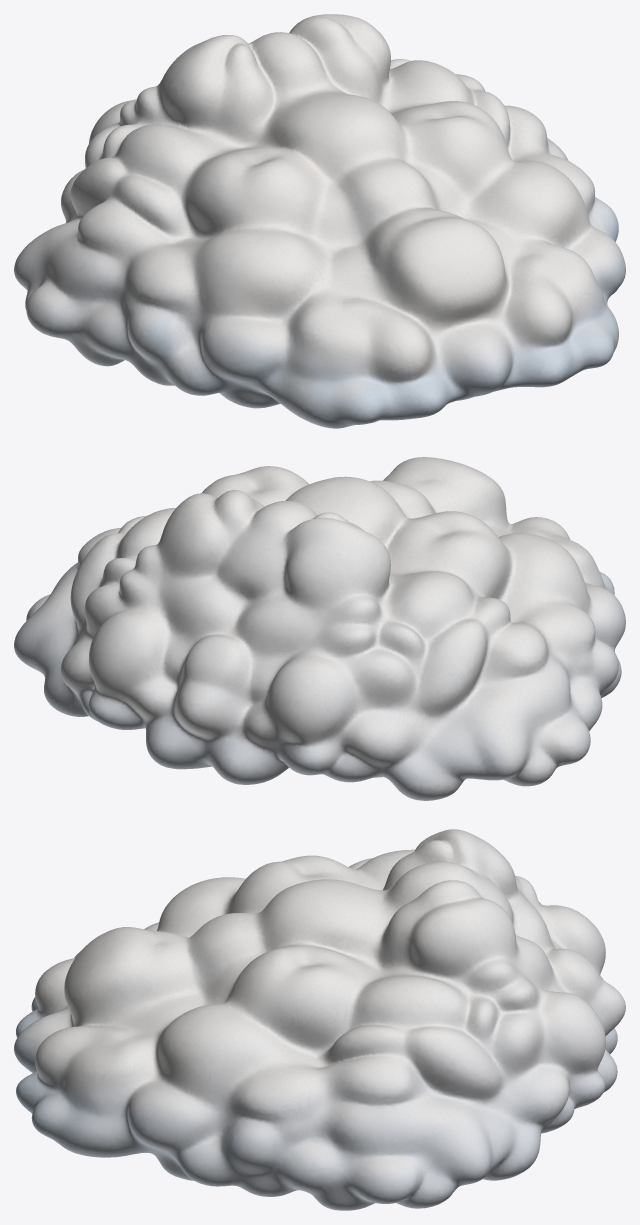
File: meshy-pastel-cloud-drift.glb
3 renders of one model, top to bottom at view 1: azimuth 30°, elevation 25°; view 2: azimuth 150°, elevation 25°; view 3: azimuth 270°, elevation 25°, orthographic.
Size of the model in its own units: 1.9 by 0.8435 by 1.83.
1 material, 1 textured.
